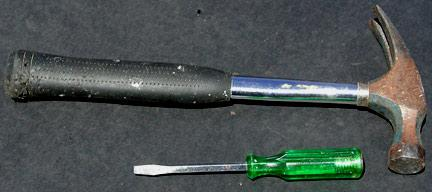hammer: (2, 2, 430, 175)
